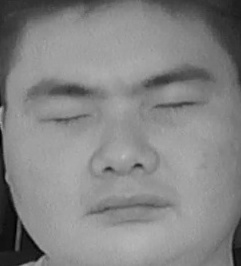blink: (38, 99, 97, 134), (152, 89, 202, 123)
mouth: (82, 185, 176, 232)
